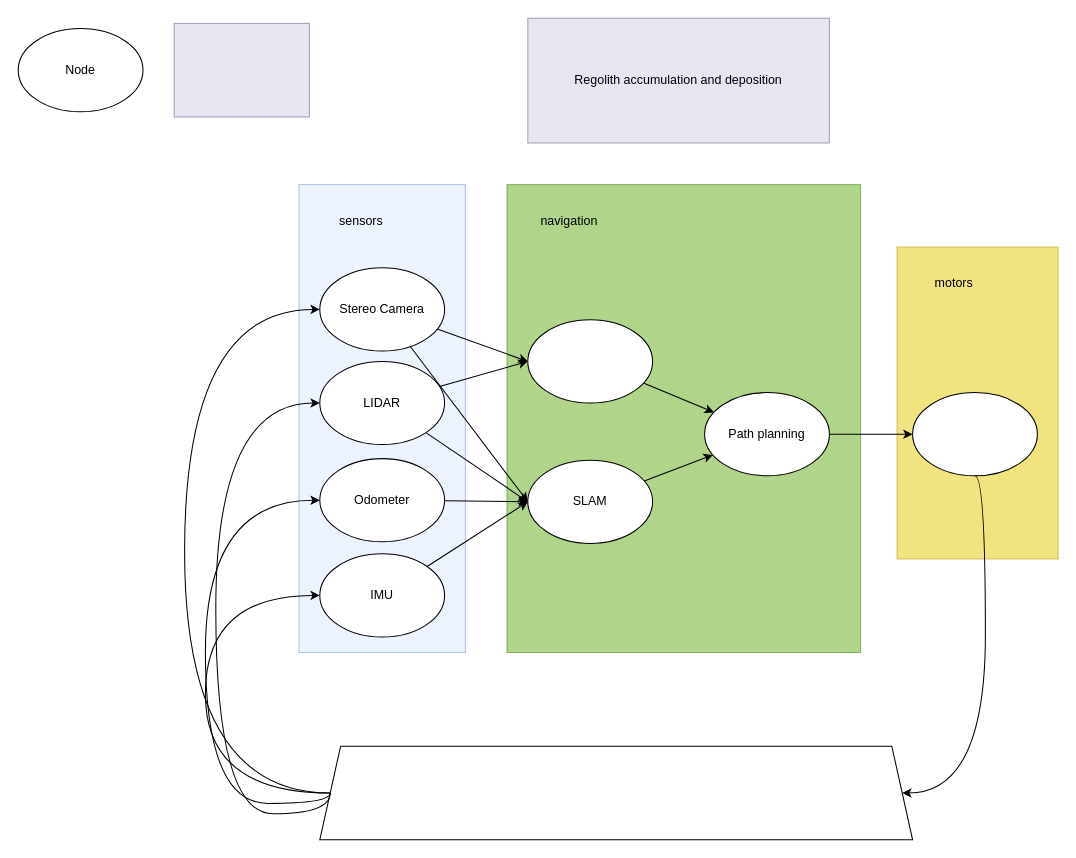
The diagram is 1076 pixels wide and 858 high, and some of its shapes have lost their labels. The box of each missing label's shape, as (x1, y1, x2, y2) in pixels:
Environment: (319, 745, 913, 840)
Motors, I don't know: (912, 392, 1037, 476)
Object detection: (527, 319, 653, 403)
Package: (173, 22, 309, 117)
